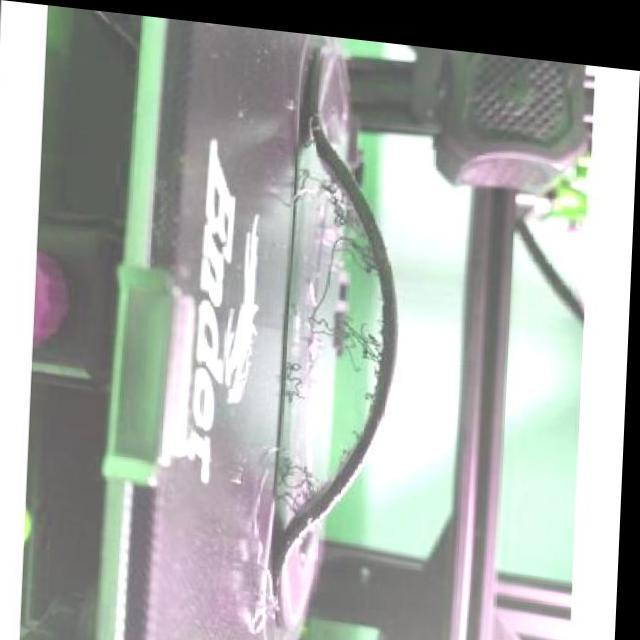spaghetti: (278, 159, 393, 514)
